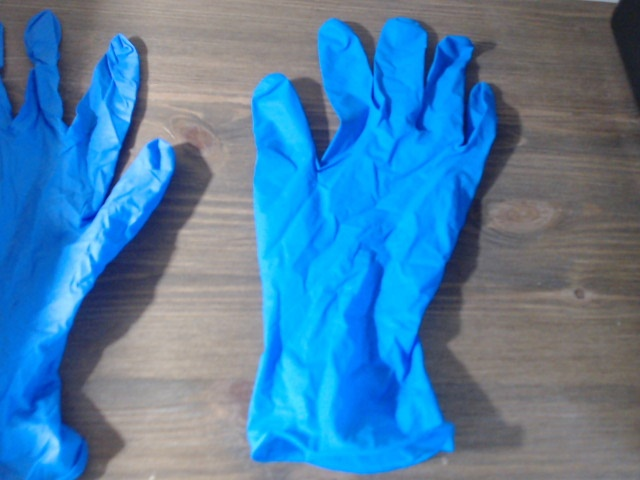medical_glove: (252, 14, 498, 475)
